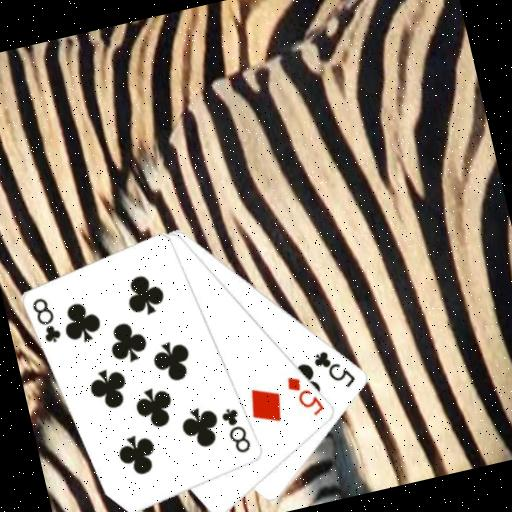5C: (309, 342, 360, 396)
5D: (282, 368, 328, 423)
8C: (217, 402, 255, 458), (28, 293, 64, 348)
